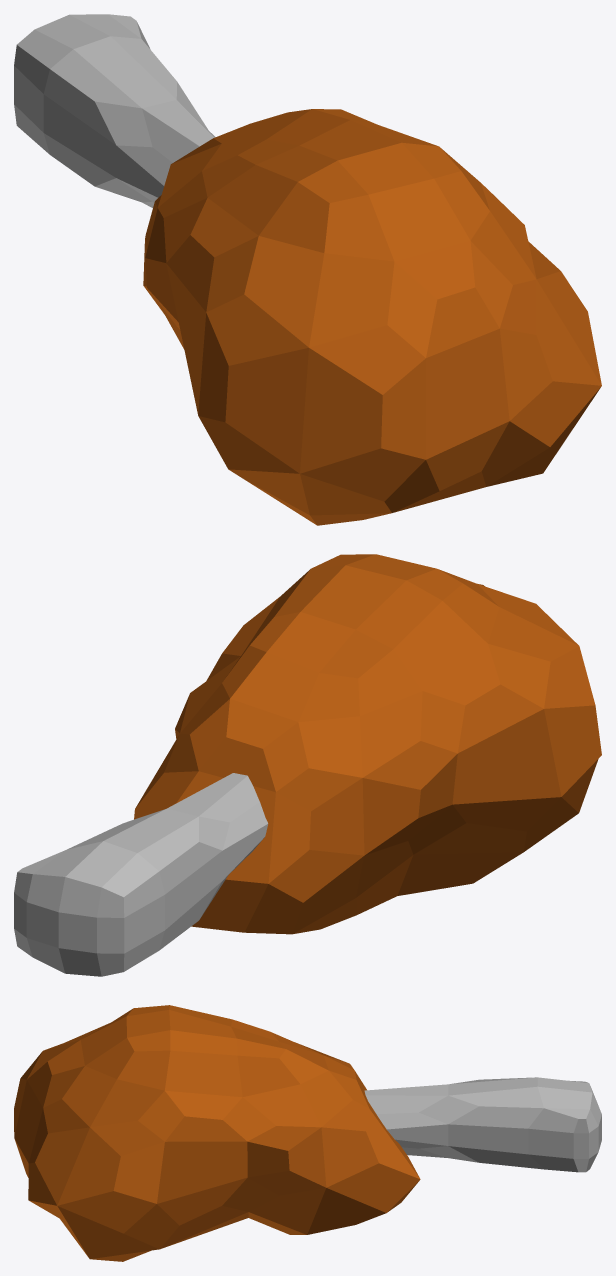
Rendered from chicken.fbx.
The picture shows the model from 3 angles, top to bottom: view 1: azimuth 30°, elevation 25°; view 2: azimuth 150°, elevation 25°; view 3: azimuth 270°, elevation 25°; orthographic projection. The views are drawn at different scales.
Parts seen in each view (by area): view 1: Cylinder; view 2: Cylinder; view 3: Cylinder.
Part boxes in pixels (x1,y1,x2,y2): Cylinder: (14,14,601,525); Cylinder: (14,554,601,976); Cylinder: (14,1005,601,1261).
Size of the model in its own units: 0.0956 by 0.0809 by 0.1973.
1 material, 1 textured.
